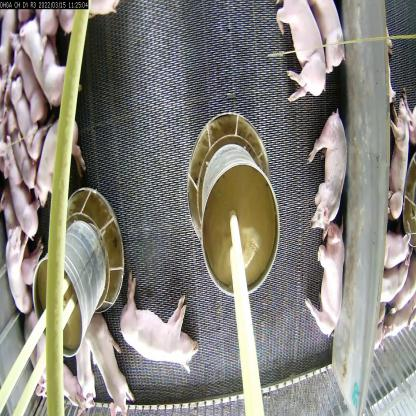Pig: (116, 287, 197, 387), (269, 0, 331, 108), (29, 108, 89, 207), (307, 108, 348, 238), (306, 224, 346, 341), (93, 313, 137, 410), (28, 13, 69, 116), (2, 158, 38, 263), (5, 74, 42, 166), (0, 215, 29, 329), (35, 354, 71, 416), (73, 335, 98, 403)
